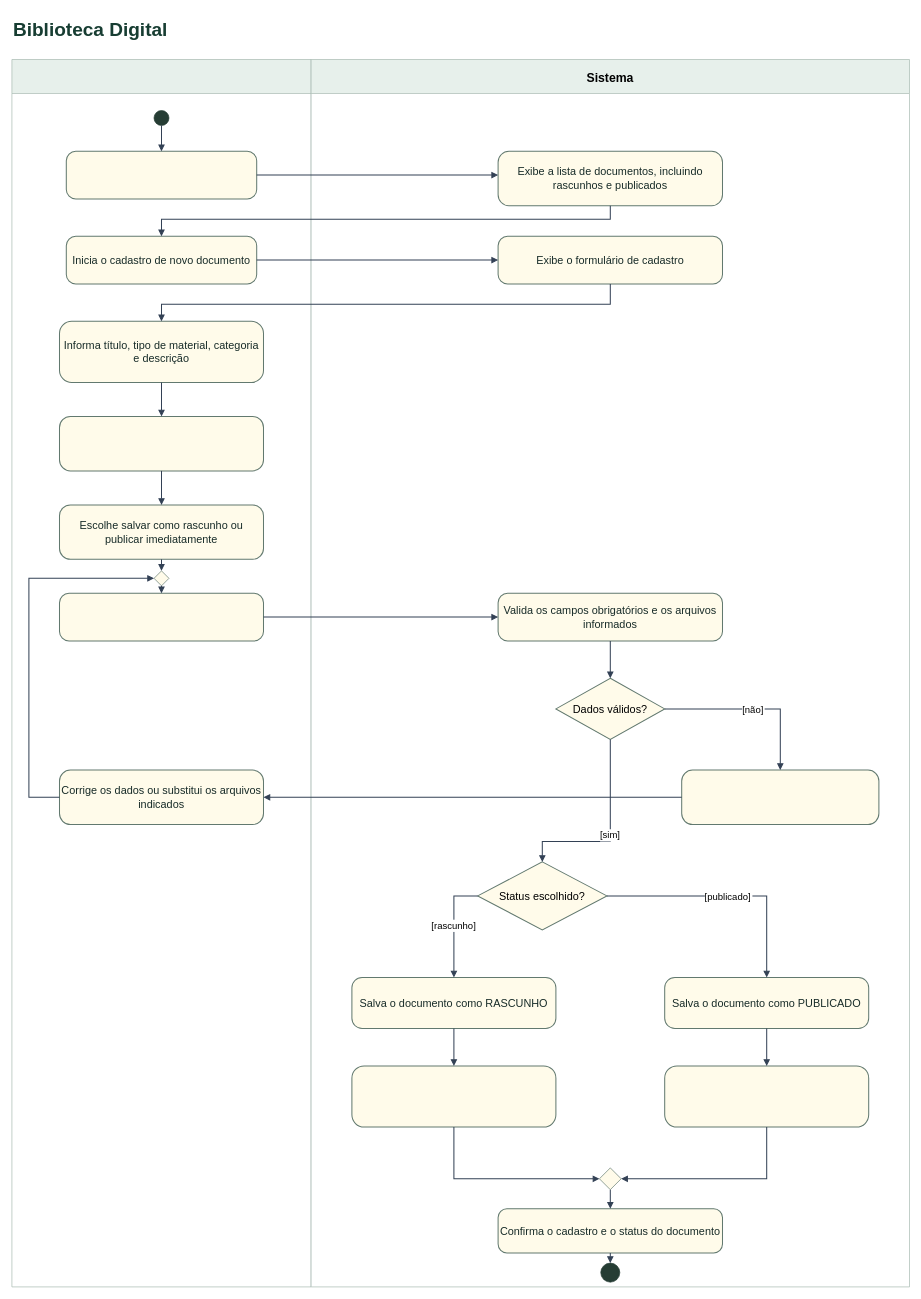
Image size: 921x1299. Some labels were removed from this diagram. The shapes that lost their labels are listed below. From the top down, each one's box as (x1, y1, x2, y2) in pixels, then its label:
(65, 150, 257, 199): Acessa a administração da Biblioteca Digital
(59, 416, 264, 471): Anexa o PDF e, opcionalmente, uma imagem de capa
(59, 592, 264, 641): Confirma o envio do documento
(11, 59, 311, 1287): Funcionário AMMA
(681, 769, 879, 825): Informa os campos e arquivos que precisam de correção
(351, 1065, 556, 1127): Mantém o documento disponível apenas na área administrativa
(664, 1065, 869, 1127): Atualiza o catálogo público com o novo documento
